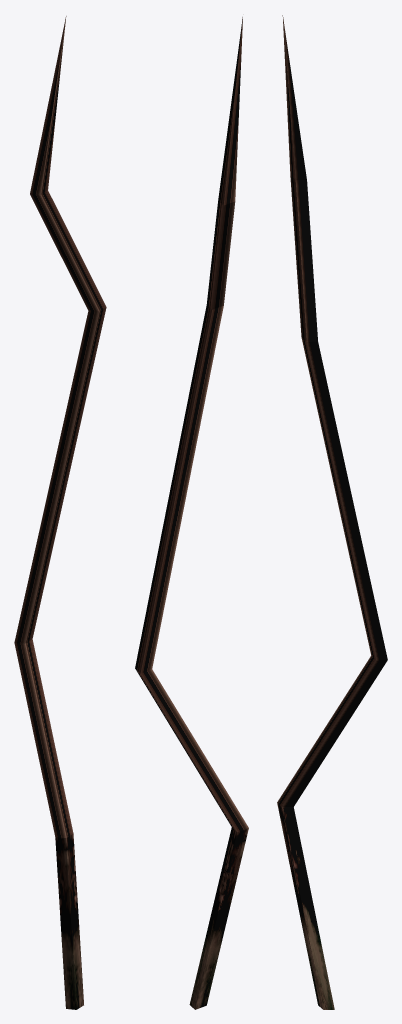
File: H1_RPl_Trunk.gltf
The picture shows the model from 3 angles, left to right: view 1: azimuth 90°, elevation 25°; view 2: azimuth 150°, elevation 25°; view 3: azimuth 330°, elevation 25°; orthographic projection. The views are drawn at different scales.
Visible parts, largest first — view 1: H1_RPl_Trunk; view 2: H1_RPl_Trunk; view 3: H1_RPl_Trunk.
Boxes of the visible parts, <box> form: H1_RPl_Trunk: <box>14,16,106,1009</box>; H1_RPl_Trunk: <box>135,17,248,1009</box>; H1_RPl_Trunk: <box>277,15,387,1009</box>.
Size of the model in its own units: 0.6306 by 6.58 by 0.5398.
1 material, 1 textured.
